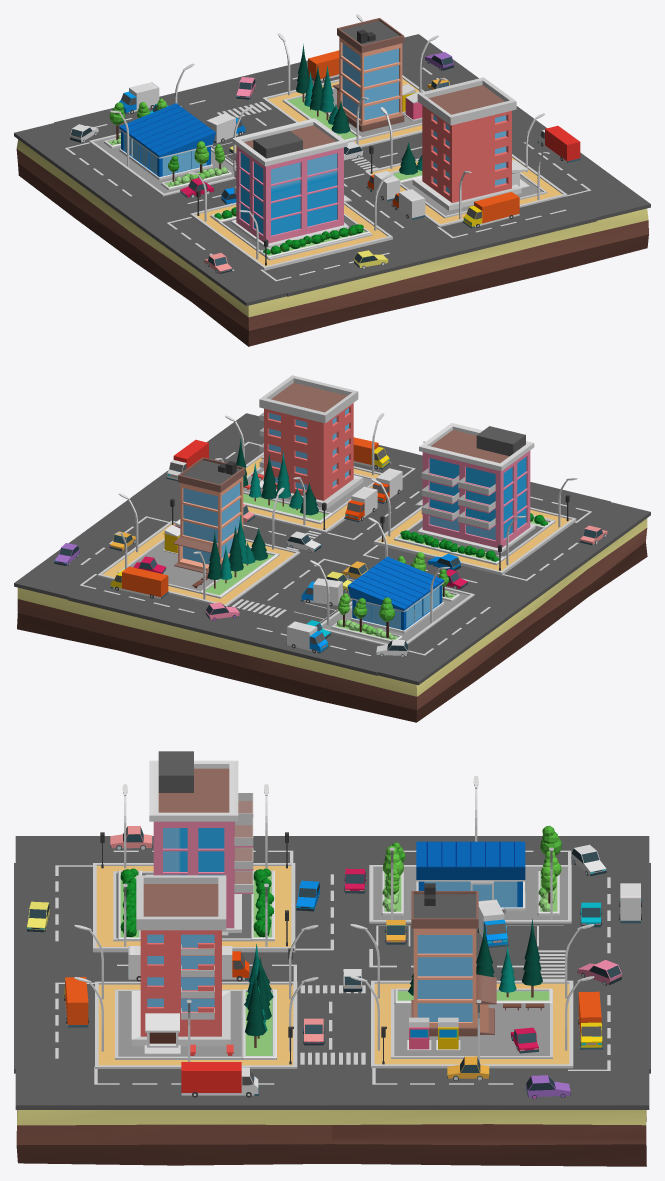
3 views of the same model, one above another, from view 1: azimuth 30°, elevation 25°; view 2: azimuth 150°, elevation 25°; view 3: azimuth 270°, elevation 25° (orthographic). The views are drawn at different scales.
Parts seen in each view (by area): view 1: ROAD, Floor_6, House, House_2, House_3, Shop, Floor, ROAD_Lines_12, Floor_4_4, Floor_2, Car_08_3, Floor_3 (+11 smaller); view 2: ROAD, Floor_6, House, House_2, House_3, Shop, Floor, Floor_3, ROAD_Lines_12, Floor_4_4, Floor_4_3, Car_08_5 (+14 smaller); view 3: ROAD, Floor_6, House_2, House, House_3, Shop, Floor_3, Floor_4_3, Floor, Floor_2, ROAD_Lines_12, Floor_4_4 (+26 smaller).
Part boxes in pixels (bbox=[...]): ROAD: bbox=[14, 34, 650, 305]; Floor_6: bbox=[16, 139, 648, 346]; House: bbox=[231, 118, 351, 248]; House_2: bbox=[412, 77, 529, 210]; House_3: bbox=[332, 18, 404, 131]; Shop: bbox=[119, 103, 215, 180]; Floor: bbox=[190, 202, 392, 270]; ROAD_Lines_12: bbox=[65, 67, 591, 281]; Floor_4_4: bbox=[89, 133, 236, 196]; Floor_2: bbox=[365, 154, 567, 227]; Car_08_3: bbox=[462, 192, 519, 228]; Floor_3: bbox=[262, 75, 424, 147]; ROAD: bbox=[14, 413, 650, 685]; Floor_6: bbox=[17, 518, 647, 722]; House: bbox=[415, 423, 535, 553]; House_2: bbox=[259, 375, 363, 508]; House_3: bbox=[173, 457, 245, 573]; Shop: bbox=[347, 556, 444, 633]; Floor: bbox=[373, 506, 576, 575]; Floor_3: bbox=[97, 520, 300, 606]; ROAD_Lines_12: bbox=[80, 441, 591, 655]; Floor_4_4: bbox=[321, 586, 474, 645]; Floor_4_3: bbox=[117, 538, 279, 598]; Car_08_5: bbox=[110, 566, 168, 598]; ROAD: bbox=[14, 836, 650, 1109]; Floor_6: bbox=[16, 1110, 646, 1166]; House_2: bbox=[131, 875, 230, 1054]; House: bbox=[146, 751, 253, 935]; House_3: bbox=[411, 883, 496, 1036]; Shop: bbox=[416, 841, 525, 911]; Floor_3: bbox=[371, 980, 573, 1068]; Floor_4_3: bbox=[391, 989, 552, 1058]; Floor: bbox=[93, 863, 295, 952]; Floor_2: bbox=[95, 981, 297, 1068]; ROAD_Lines_12: bbox=[55, 850, 610, 1084]; Floor_4_4: bbox=[369, 865, 571, 923].
Bounding box in the file's own units: 2192 × 744 × 2192.
8 materials, 8 textured.
